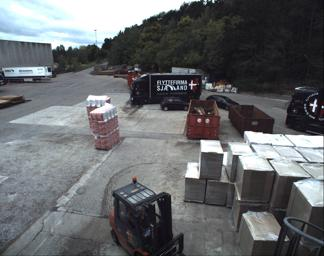rockwool_batts: (92, 105, 119, 148), (85, 93, 110, 116)
